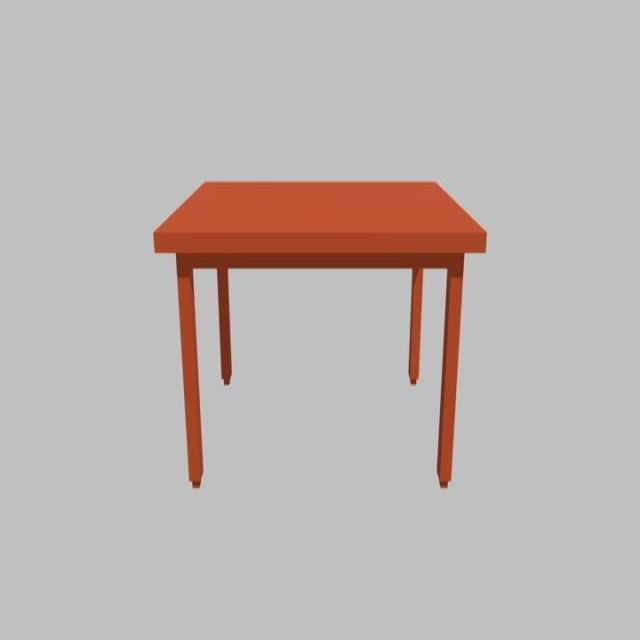table: (155, 178, 487, 491)
